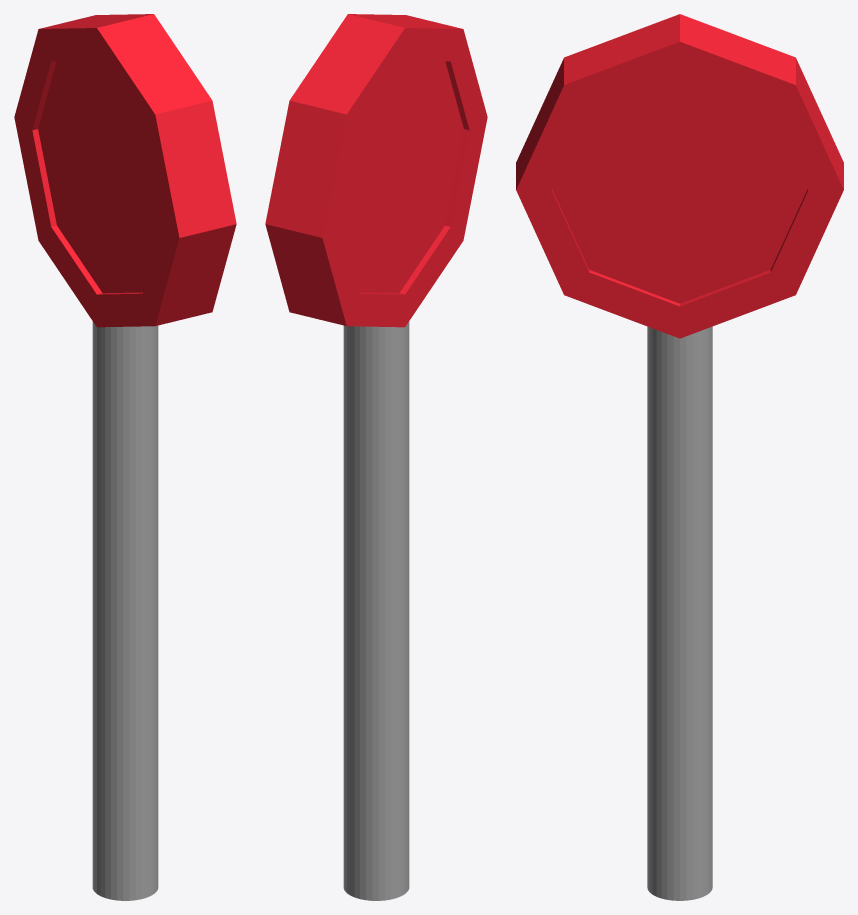
Rendered from StopSign.fbx.
The picture shows the model from 3 angles, left to right: view 1: azimuth 30°, elevation 25°; view 2: azimuth 150°, elevation 25°; view 3: azimuth 270°, elevation 25°; orthographic projection.
Visible parts, largest first — view 1: Post; view 2: Post; view 3: Post.
Boxes of the visible parts, x1,y1,x2,y2 form: Post: [14, 14, 236, 900]; Post: [265, 14, 487, 900]; Post: [516, 14, 843, 900].
Bounding box in the file's own units: 100 × 1447 × 500.
